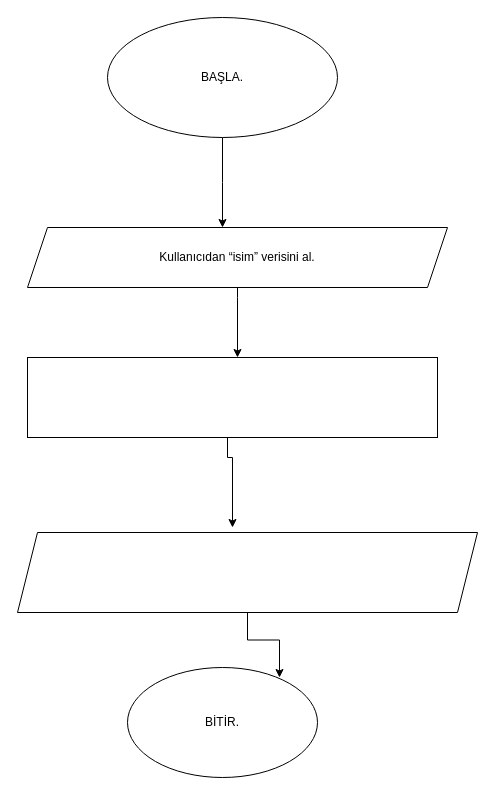
Image size: 495x795. Some labels were removed from this diagram. Here are the shapes that lost their labels. From the top down, the centre of each, then its label:
the point at 232,397: mesaj = “Hoş Geldiniz Sayın ” + isim
the point at 247,572: Ekrana “mesaj” değişkenini yazdır.
